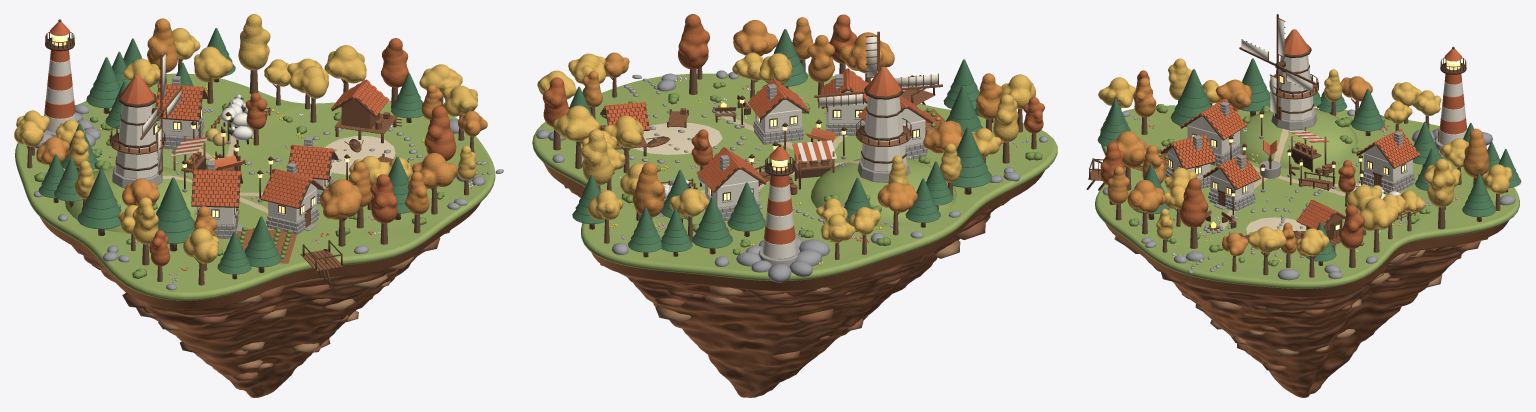
File: island.glb
The picture shows the model from 3 angles, left to right: view 1: azimuth 30°, elevation 25°; view 2: azimuth 150°, elevation 25°; view 3: azimuth 270°, elevation 25°; orthographic projection. The views are drawn at different scales.
Visible parts, largest first — view 1: static, mill_body, tree_21, tree_1, tree_17, tree_36, tree_29, tree_16, tree_34, tree_44, tree_14, tree_48 (+32 smaller); view 2: static, mill_body, mill_hub, tree_44, tree_1, tree_17, tree_29, tree_2, tree_5, tree_16, tree_36, tree_8 (+35 smaller); view 3: static, mill_body, mill_hub, tree_44, tree_21, tree_17, tree_16, tree_29, tree_2, tree_14, tree_36, tree_1 (+28 smaller).
Part boxes in pixels (x1=…): static: x1=15, y1=19, x2=503, y2=397; mill_body: x1=109, y1=75, x2=165, y2=188; tree_21: x1=156, y1=177, x2=194, y2=251; tree_1: x1=77, y1=168, x2=121, y2=235; tree_17: x1=238, y1=14, x2=270, y2=94; tree_36: x1=320, y1=179, x2=362, y2=246; tree_29: x1=324, y1=45, x2=366, y2=92; tree_16: x1=412, y1=153, x2=457, y2=214; tree_34: x1=370, y1=174, x2=397, y2=244; tree_44: x1=424, y1=105, x2=456, y2=161; tree_14: x1=381, y1=38, x2=408, y2=108; tree_48: x1=244, y1=216, x2=281, y2=272; static: x1=532, y1=68, x2=1057, y2=397; mill_body: x1=856, y1=66, x2=911, y2=182; mill_hub: x1=814, y1=31, x2=942, y2=108; tree_44: x1=678, y1=14, x2=709, y2=94; tree_1: x1=947, y1=126, x2=991, y2=194; tree_17: x1=581, y1=129, x2=613, y2=191; tree_29: x1=553, y1=105, x2=599, y2=168; tree_2: x1=632, y1=162, x2=665, y2=219; tree_5: x1=692, y1=197, x2=732, y2=254; tree_16: x1=733, y1=20, x2=778, y2=82; tree_36: x1=839, y1=32, x2=894, y2=83; tree_8: x1=727, y1=182, x2=765, y2=236; static: x1=1086, y1=46, x2=1519, y2=397; mill_body: x1=1269, y1=29, x2=1318, y2=130; mill_hub: x1=1239, y1=14, x2=1315, y2=117; tree_44: x1=1180, y1=178, x2=1208, y2=248; tree_21: x1=1170, y1=69, x2=1211, y2=126; tree_17: x1=1427, y1=159, x2=1455, y2=229; tree_16: x1=1127, y1=180, x2=1165, y2=234; tree_29: x1=1360, y1=197, x2=1397, y2=252; tree_2: x1=1463, y1=128, x2=1489, y2=185; tree_14: x1=1340, y1=205, x2=1364, y2=267; tree_36: x1=1110, y1=131, x2=1148, y2=190; tree_1: x1=1241, y1=58, x2=1270, y2=116.
Bounding box in the file's own units: 18.52 × 15.85 × 18.83.
